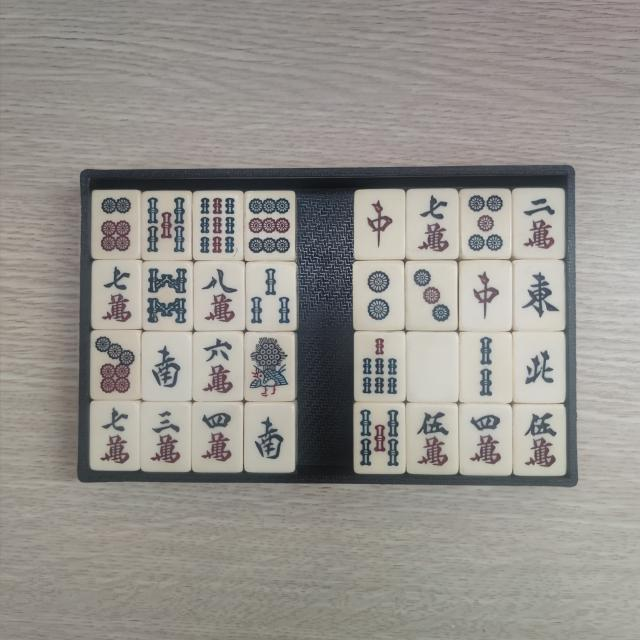hdr: (466, 264, 508, 326), (358, 193, 398, 255)
hdw: (412, 336, 453, 396)
hwe: (518, 264, 562, 326)
hwn: (520, 336, 562, 398)
hws: (148, 336, 188, 396), (252, 408, 290, 469)
sb1: (246, 332, 294, 397)
sb2: (466, 333, 509, 398)
sb3: (249, 265, 294, 326)
sb5: (146, 192, 189, 255), (358, 406, 400, 470)
sb7: (360, 334, 401, 396)
sb8: (145, 265, 190, 326)
sb9: (197, 194, 238, 256)
sc2: (520, 194, 564, 256)
sc3: (144, 407, 186, 469)
sc4: (467, 409, 510, 472), (198, 408, 238, 470)
sc5: (519, 409, 560, 474), (413, 406, 453, 469)
sc6: (198, 335, 238, 396)
sc7: (412, 192, 454, 256), (96, 405, 137, 468), (100, 263, 140, 327)
sc8: (198, 265, 239, 326)
sd2: (360, 266, 400, 326)
sd3: (410, 265, 453, 326)
sd5: (466, 192, 508, 254)
sd6: (96, 193, 134, 254)
sd7: (94, 334, 140, 396)
sd9: (250, 196, 294, 256)
